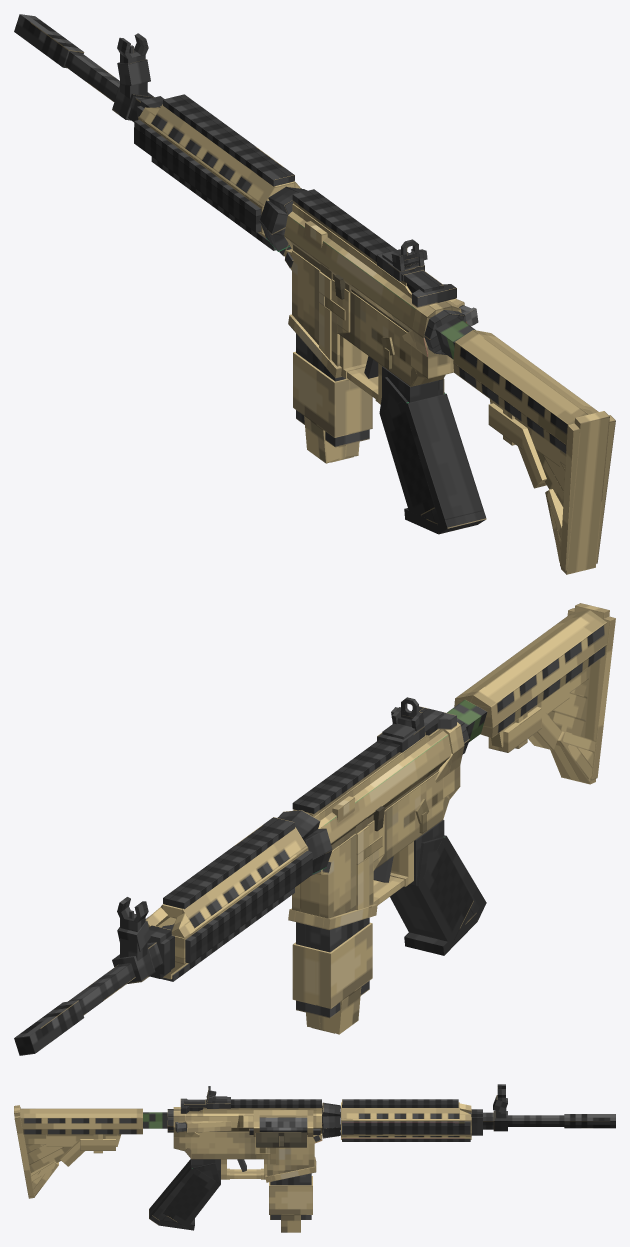
Rendered from bullet.fbx.
3 renders of one model, top to bottom at view 1: azimuth 30°, elevation 25°; view 2: azimuth 150°, elevation 25°; view 3: azimuth 270°, elevation 25°, orthographic. The views are drawn at different scales.
Visible parts, largest first — view 1: gun, magazine, bone4, bone5, bone2, bone6; view 2: gun, magazine, bone4, bone5, bone2, bone6, frontsight, bone8, rearsight; view 3: gun, magazine, bone5, bone4, bolt, bone2, bone7, bone8.
Boxes of the visible parts, x1,y1,x2,y2 form: gun: (14,14,615,574); magazine: (293,333,372,463); bone4: (151,94,294,250); bone5: (134,120,301,232); bone2: (288,211,464,354); bone6: (259,200,289,251); gun: (14,603,615,1055); magazine: (292,917,372,1034); bone4: (161,817,294,981); bone5: (145,851,312,963); bone2: (318,718,464,828); bone6: (303,828,332,873); frontsight: (117,897,148,931); bone8: (278,810,320,839); rearsight: (391,697,424,731); gun: (14,1094,615,1230); magazine: (269,1173,312,1232); bone5: (342,1121,470,1134); bone4: (342,1099,470,1141); bolt: (259,1117,307,1127); bone2: (167,1107,321,1116); bone7: (322,1116,340,1137); bone8: (322,1102,340,1116).
Bounding box in the file's own units: 43.63 × 164 × 633.
